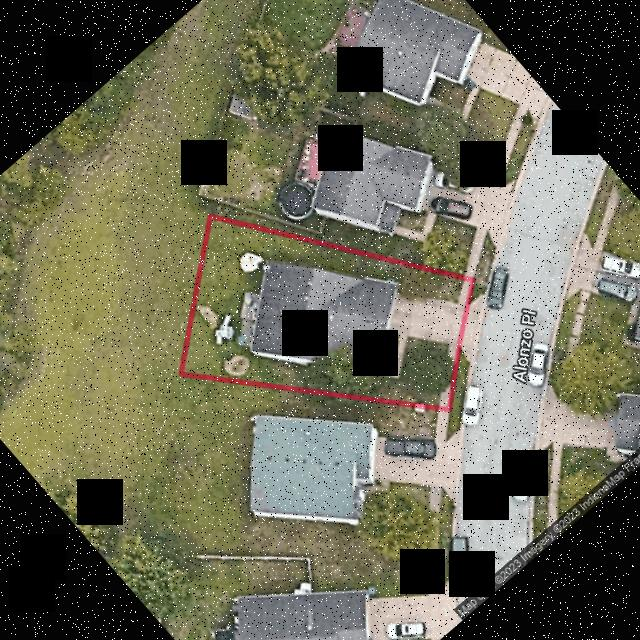Driveway: (390, 293, 464, 345), (382, 334, 408, 378)
Extra Driveway: (459, 292, 486, 364)
Extra Lawn: (450, 348, 469, 412), (468, 278, 488, 304)
House: (249, 262, 396, 365)
Other: (236, 291, 258, 345), (214, 314, 234, 344), (223, 354, 248, 375), (196, 306, 218, 329), (239, 252, 262, 272)
Sidewalk: (438, 343, 455, 406), (457, 279, 470, 305)
